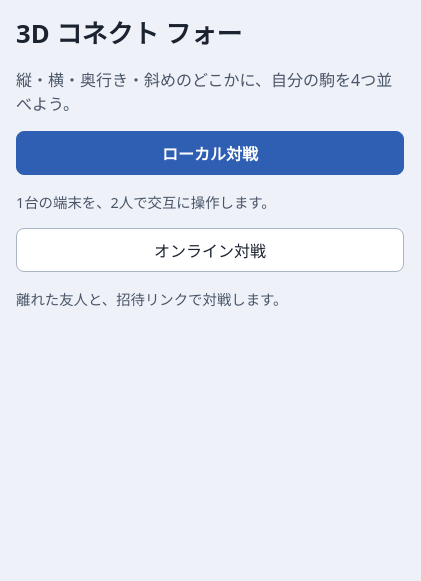
Test: オンライン対戦の画面 › ホストがルームを作ると、招待リンク（ルームコードつき）が表示される
The width and height of the screenshot is (421, 581).
Click the button "オンライン対戦" at (210, 250), box [16,228,404,272]
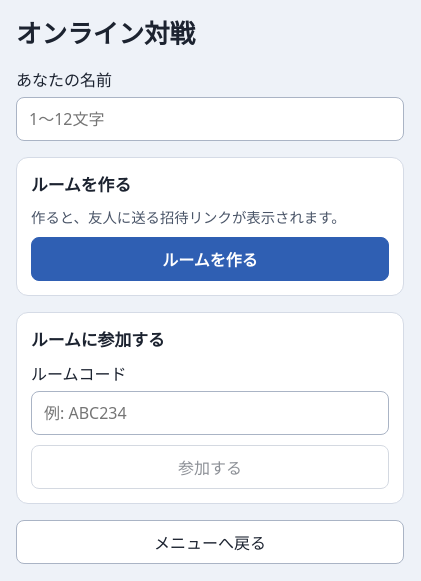
Type "あや" into the field labelled "あなたの名前" at (210, 119), box [16,97,404,141]
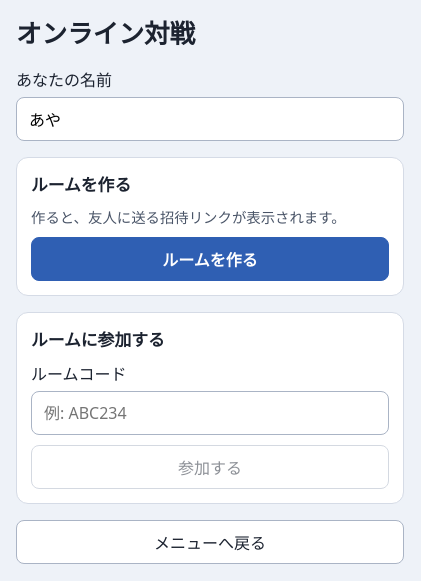
Click the button "ルームを作る" at (210, 259), box [31,237,389,281]
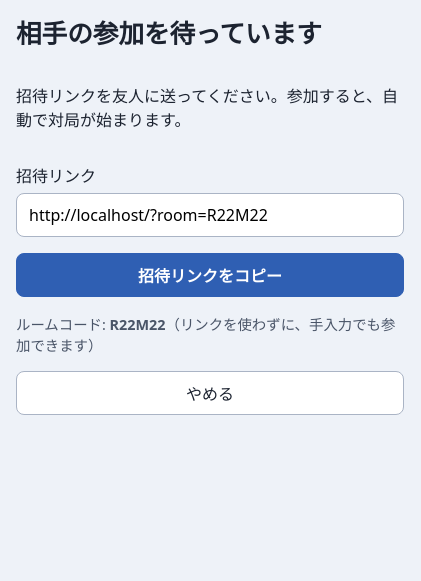
Result: the heading "相手の参加を待っています" is shown at [16,16,322,51]
